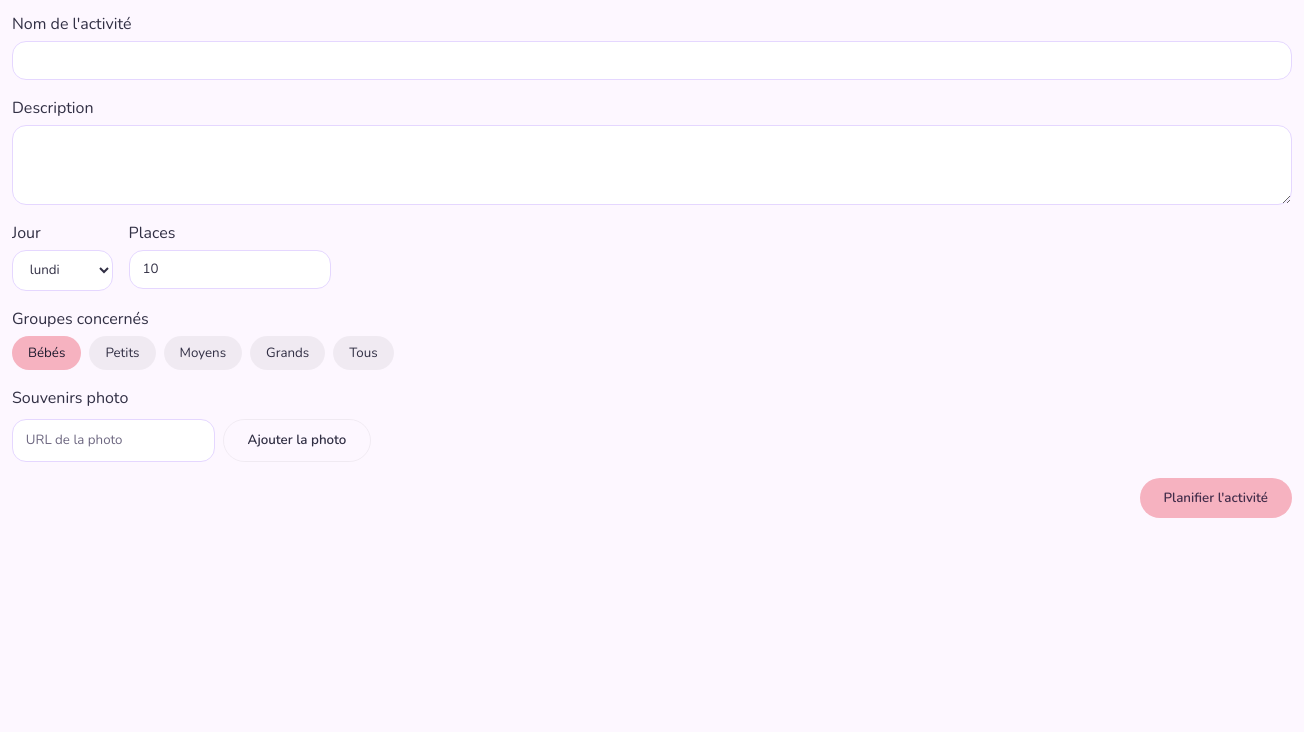
ActivityForm › prevents submission when required fields are empty
This screenshot has width=1304, height=732.
Step 1. Click the button "Planifier l'activité" → (1216, 498), box 1140,478 -> 1292,518
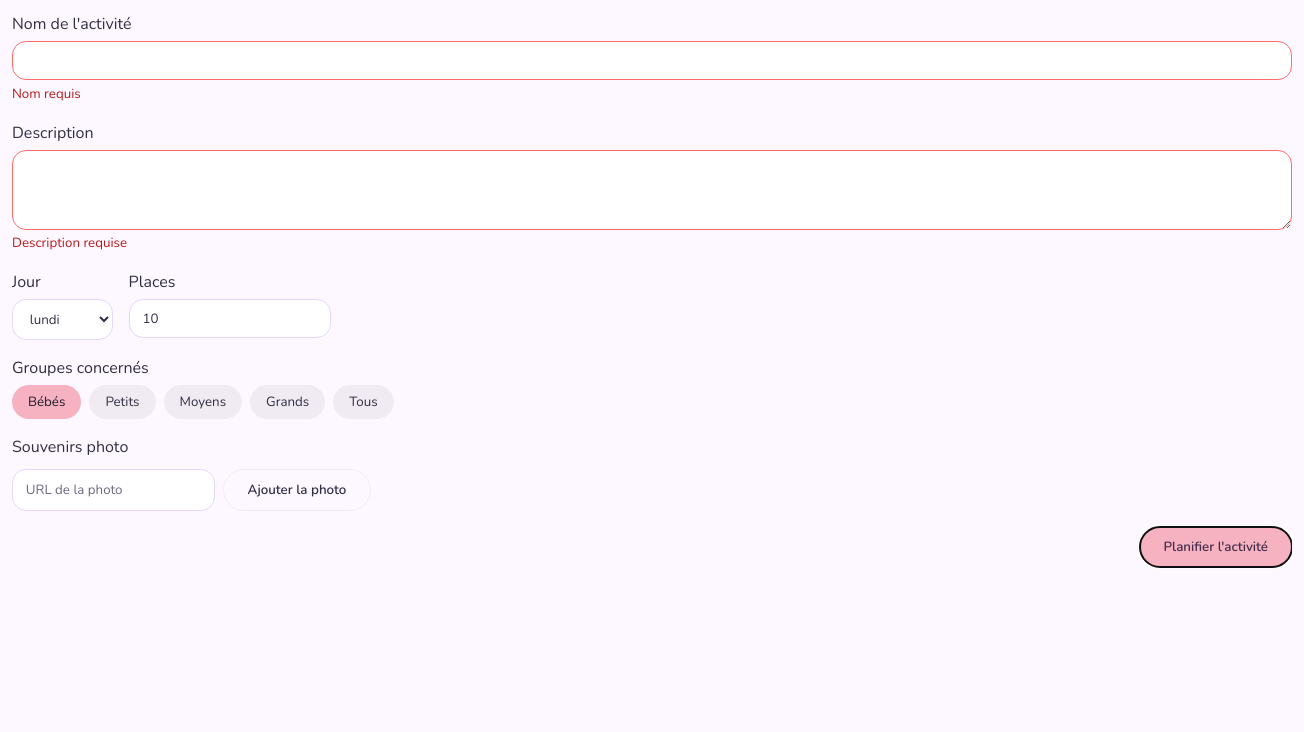
Check: the text "Nom requis" is shown, box 12,85 -> 81,103
Check: the text "Description requise" is shown, box 12,234 -> 127,252
